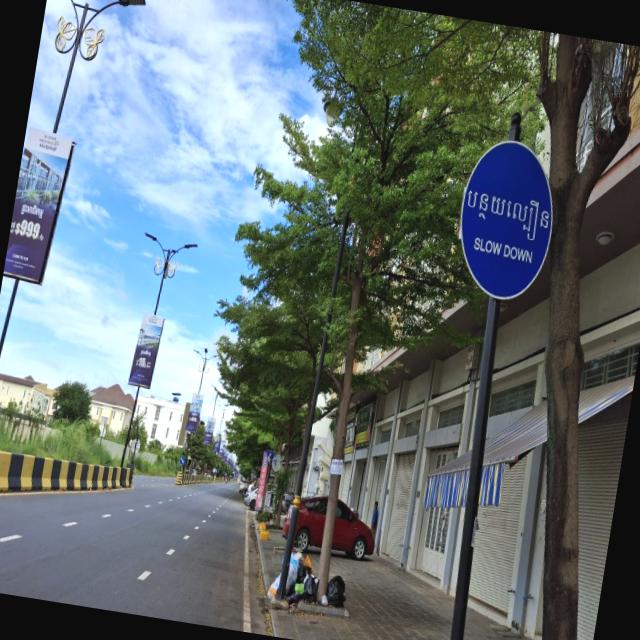Yolov11_80vkh: (454, 181, 558, 251)
